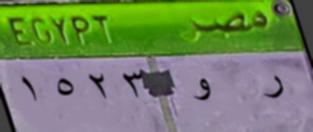1: (17, 69, 40, 107)
2: (88, 68, 110, 101)
3: (118, 65, 144, 103)
5: (53, 73, 75, 102)
raa: (257, 70, 287, 107)
waw: (192, 71, 215, 108)
